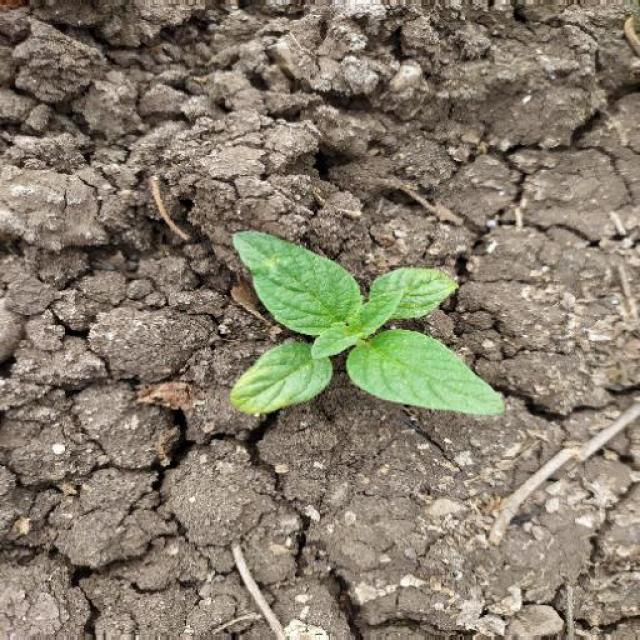crop: (217, 217, 514, 425)
